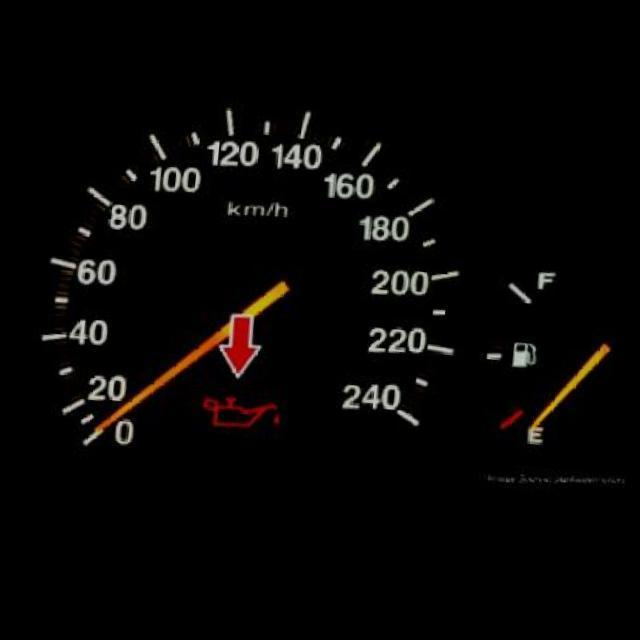Low fuel level: (502, 346, 534, 382)
